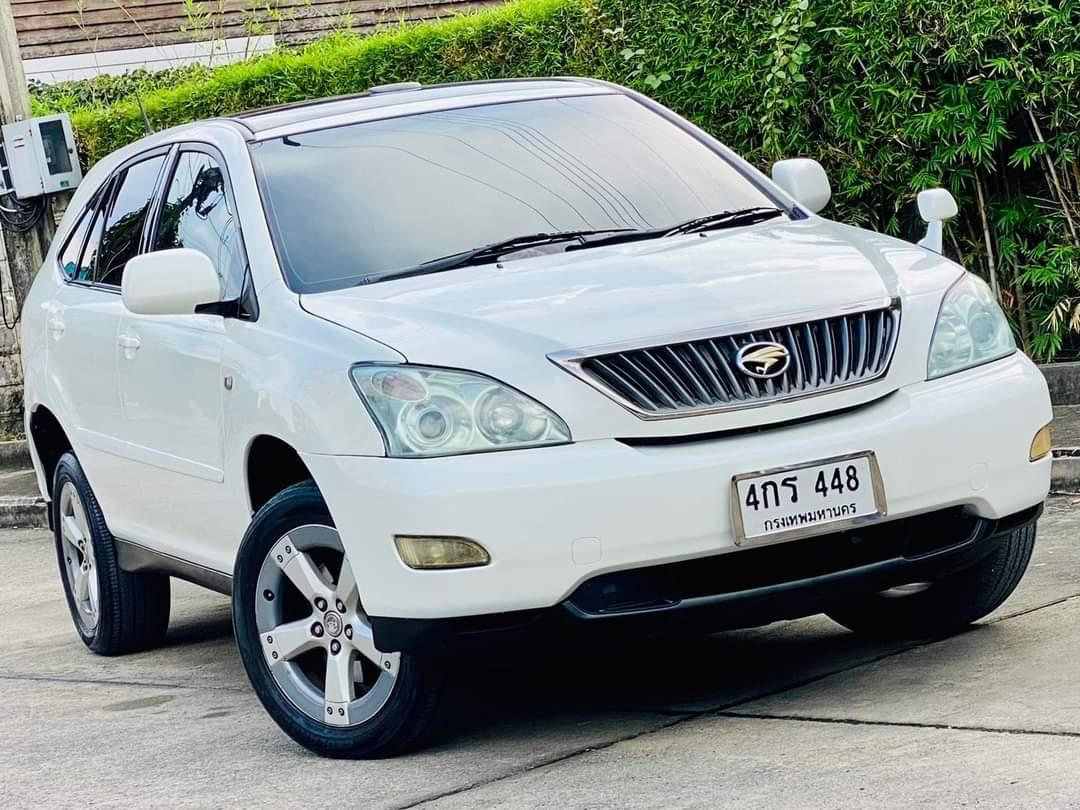license-plate: (727, 446, 893, 552)
